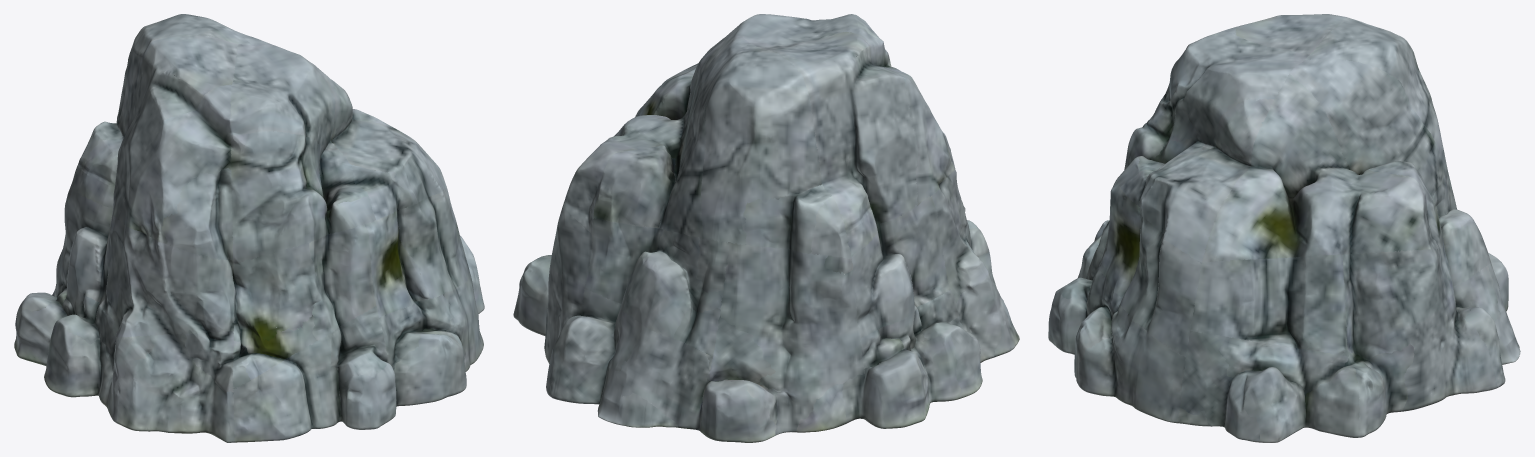
The model's file is rock.glb.
The picture shows the model from 3 angles, left to right: view 1: azimuth 30°, elevation 25°; view 2: azimuth 150°, elevation 25°; view 3: azimuth 270°, elevation 25°; orthographic projection. The views are drawn at different scales.
Bounding box in the file's own units: 1.9 × 1.31 × 1.9.
1 material, 1 textured.
